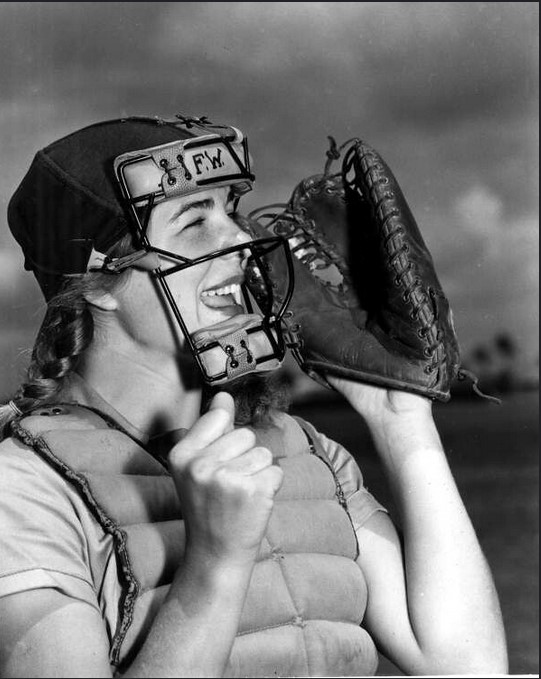face_no_mask: (94, 164, 258, 372)
